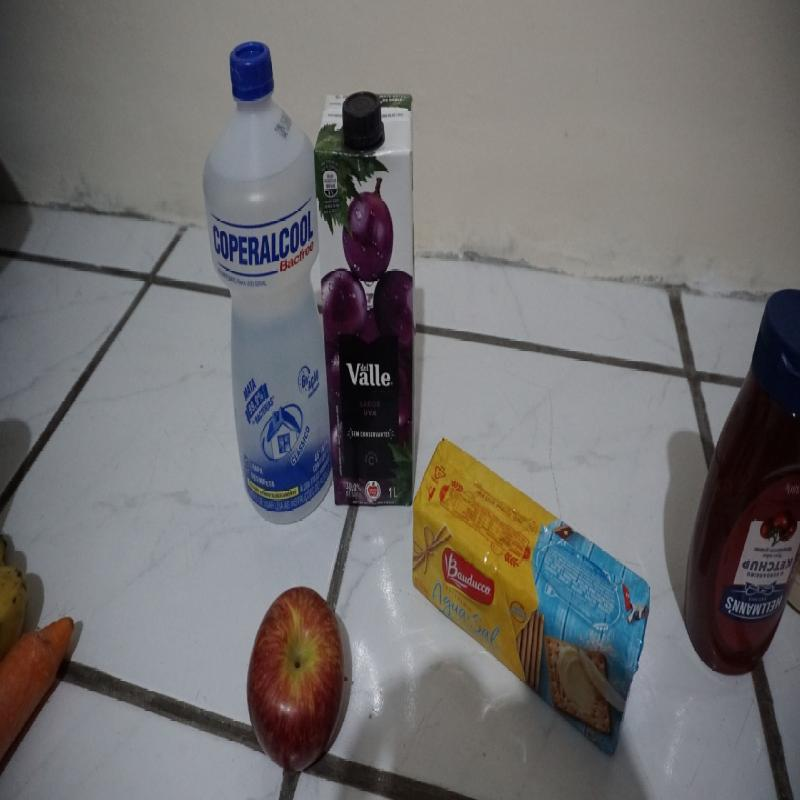Alcohol Bottle: (204, 39, 321, 526)
Apple: (240, 585, 349, 766)
Carrot: (2, 615, 82, 758)
Cracker: (411, 436, 650, 758)
Ketchup: (689, 287, 799, 672)
